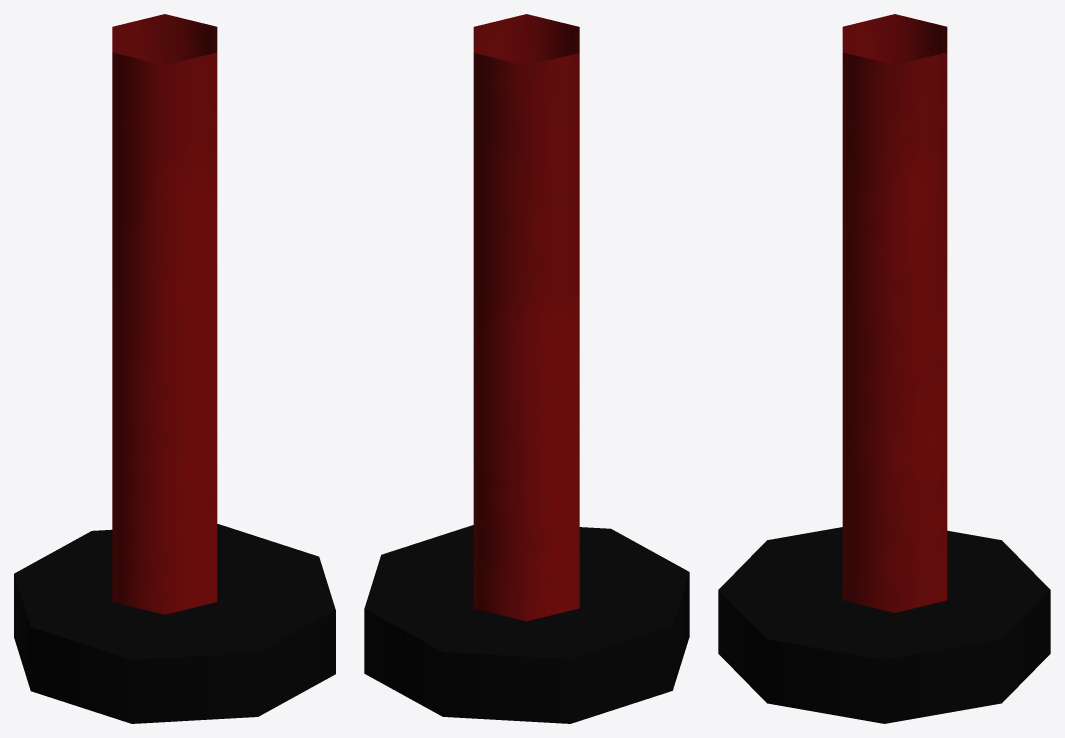
The model's file is Nozzle.FBX.
3 views of the same model, side by side, from view 1: azimuth 30°, elevation 25°; view 2: azimuth 150°, elevation 25°; view 3: azimuth 270°, elevation 25° (orthographic).
Parts seen in each view (by area): view 1: Nozzle; view 2: Nozzle; view 3: Nozzle.
Boxes of the visible parts, x1,y1,x2,y2 form: Nozzle: (14,14,335,723); Nozzle: (364,14,689,723); Nozzle: (718,14,1050,723).
Size of the model in its own units: 1.3 by 2.64 by 1.3.
